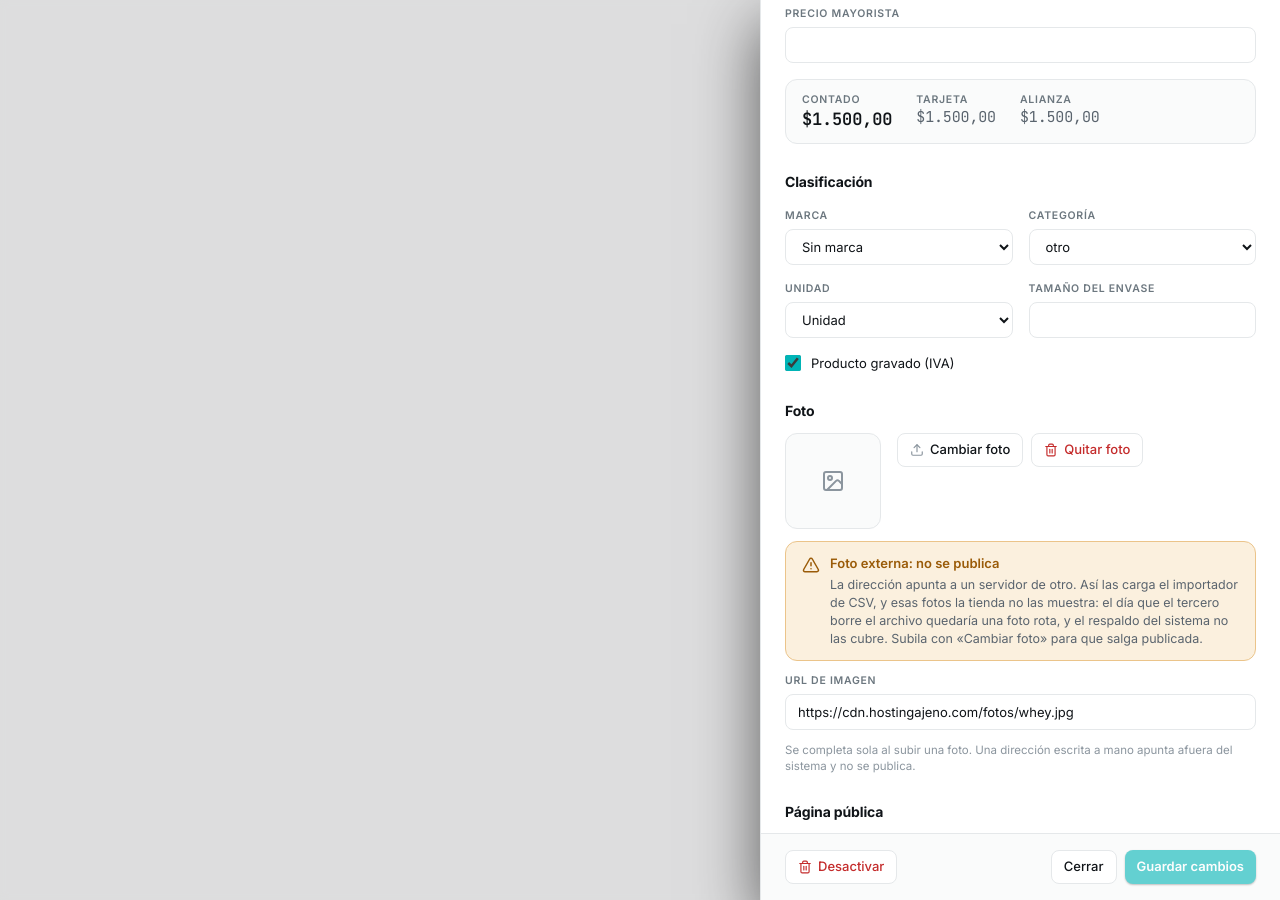
Test: Quitar la foto › también sirve para sacar la foto externa que dejó el importador
(page scrolled)
Click the button "Quitar foto". click: (1087, 450)
box: [1031,433,1143,467]
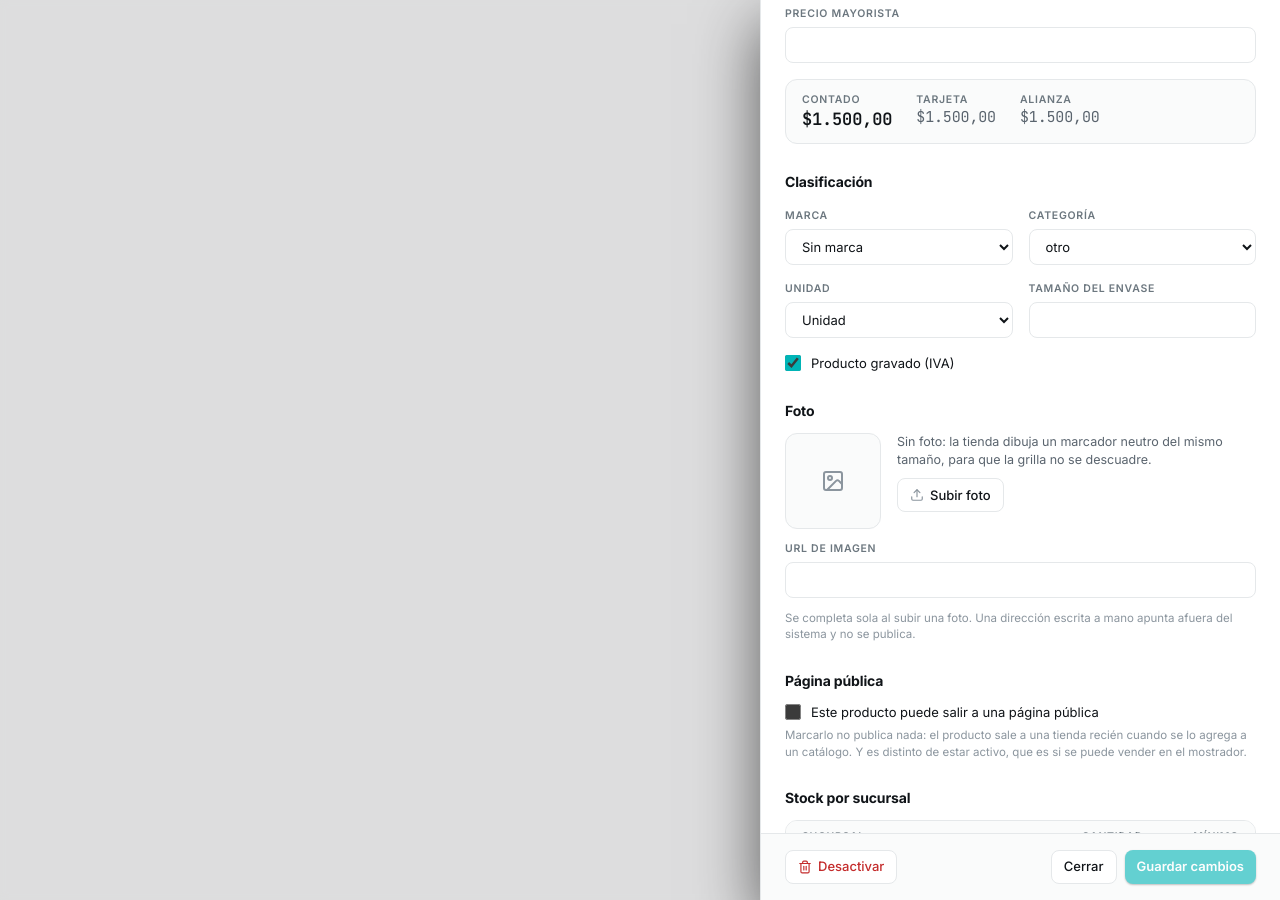
Check: the text "Foto externa: no se publica" is gone
